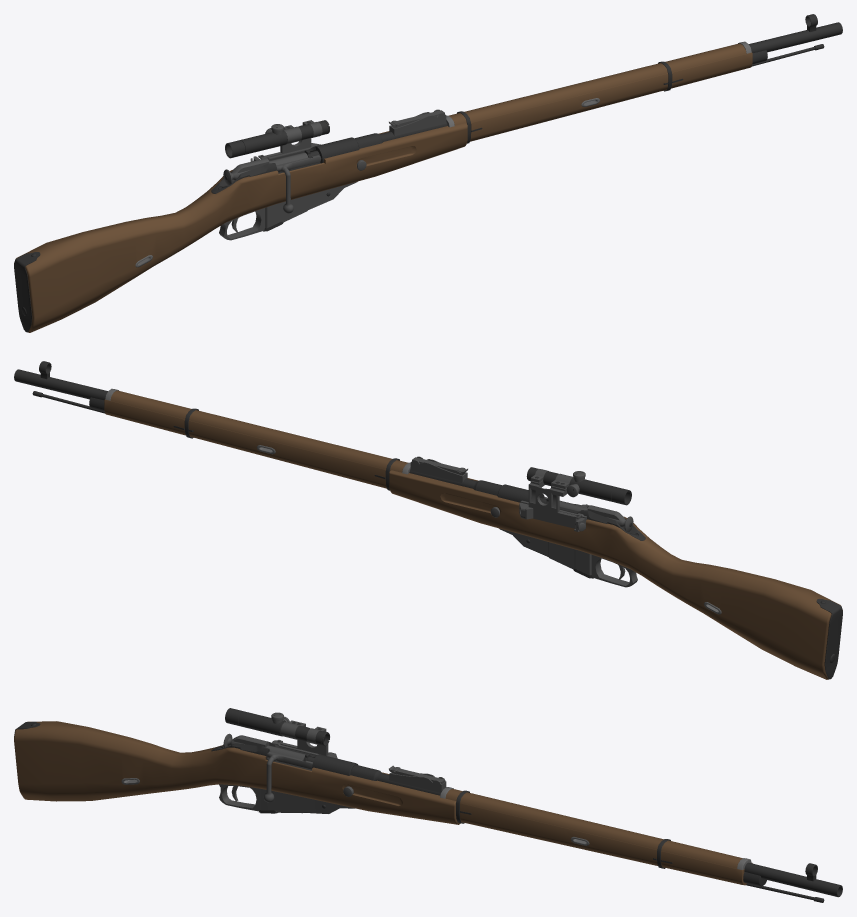
File: mosin.fbx
The picture shows the model from 3 angles, top to bottom: view 1: azimuth 30°, elevation 25°; view 2: azimuth 150°, elevation 25°; view 3: azimuth 330°, elevation 25°; orthographic projection.
Visible parts, largest first — view 1: wood4, wood5, wood3, barrel3, pCube38, sniper_Aim2, barrelBox3, nape, holder1, aim; view 2: wood4, wood5, wood3, pCube38, holder1, barrel3, sniper_Aim2, nape, barrelBox3, aim; view 3: wood4, wood5, wood3, barrel3, pCube38, sniper_Aim2, barrelBox3, holder1, aim, shutter3, trigger1.
Part boxes in pixels (x1,y1,x2,y2): wood4: [14, 123, 467, 332]; wood5: [470, 52, 752, 141]; wood3: [449, 43, 746, 125]; barrel3: [355, 22, 842, 148]; pCube38: [219, 181, 357, 240]; sniper_Aim2: [225, 120, 329, 158]; barrelBox3: [211, 137, 359, 193]; nape: [14, 252, 40, 332]; holder1: [264, 120, 322, 157]; aim: [389, 109, 446, 135]; wood4: [389, 470, 842, 679]; wood5: [104, 399, 386, 488]; wood3: [110, 390, 407, 472]; pCube38: [499, 528, 637, 587]; holder1: [525, 469, 580, 529]; barrel3: [14, 369, 501, 495]; sniper_Aim2: [526, 467, 631, 505]; nape: [816, 599, 842, 679]; barrelBox3: [497, 484, 645, 540]; aim: [410, 456, 467, 482]; wood4: [14, 721, 460, 824]; wood5: [460, 803, 752, 885]; wood3: [445, 789, 742, 868]; barrel3: [351, 765, 842, 897]; pCube38: [219, 784, 354, 813]; sniper_Aim2: [225, 708, 329, 746]; barrelBox3: [211, 742, 357, 775]; holder1: [280, 720, 331, 755]; aim: [389, 772, 446, 792]; shutter3: [266, 745, 312, 768]; trigger1: [223, 733, 269, 747].
Bounding box in the file's own units: 42.45 × 7.18 × 2.36.
